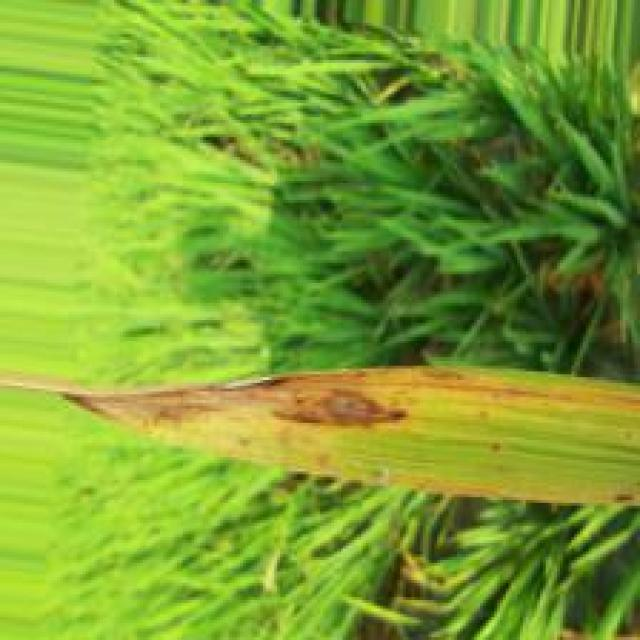Bacterial_Leaf_Blight: (67, 369, 414, 431), (370, 367, 640, 417), (311, 450, 337, 473), (610, 490, 632, 501)
